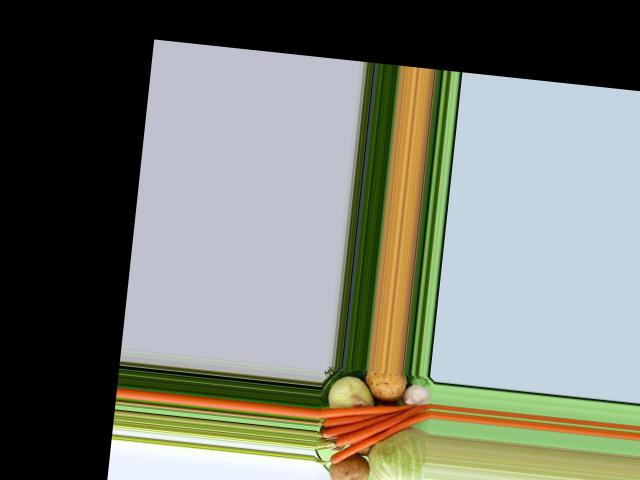carrot: (318, 392, 427, 429)
